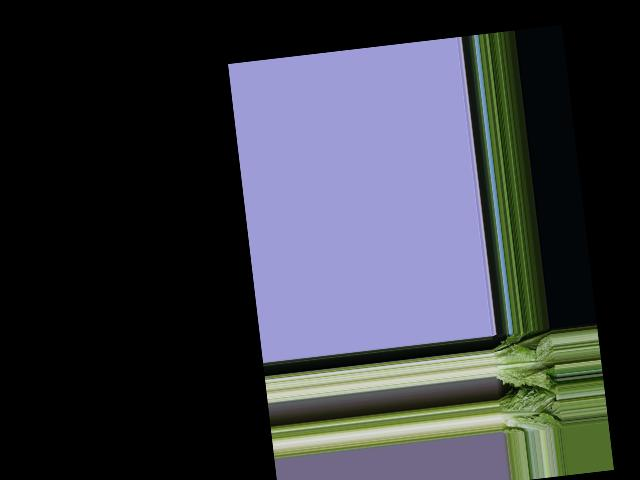lettuce: (497, 386, 559, 431)
